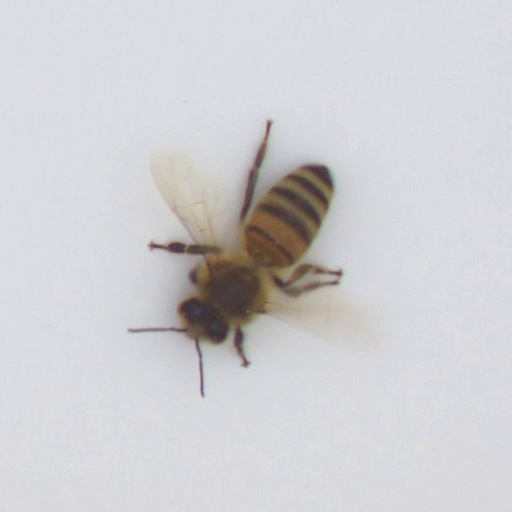Bee: (169, 165, 334, 345)
Thorax: (203, 265, 262, 320)
